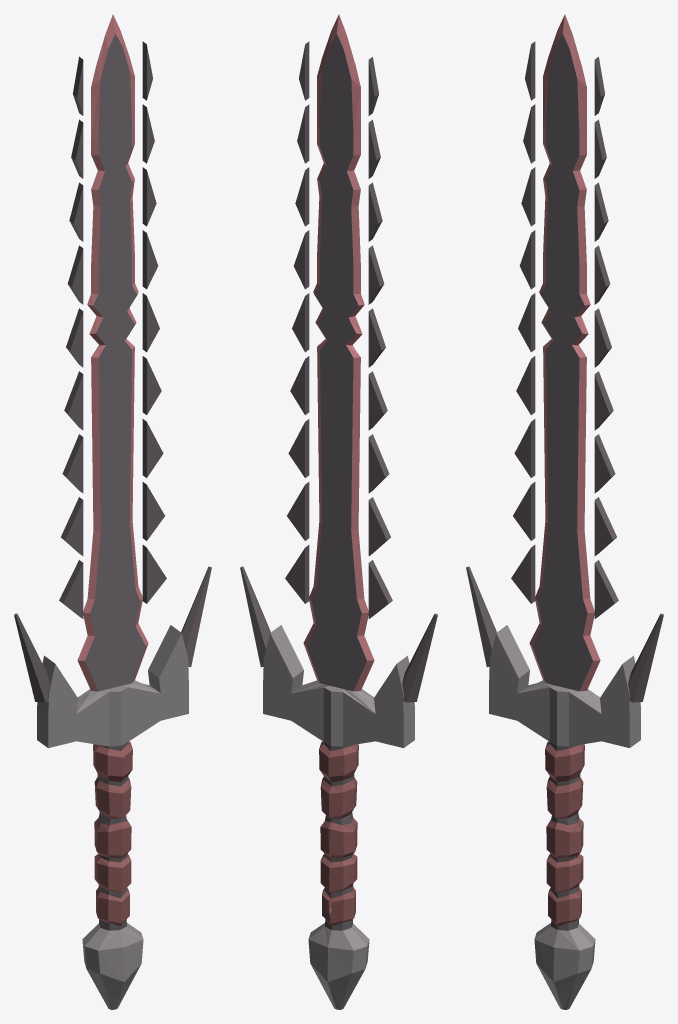
Rendered from espada_colmillo.glb.
3 views of the same model, side by side, from view 1: azimuth 30°, elevation 25°; view 2: azimuth 150°, elevation 25°; view 3: azimuth 330°, elevation 25° (orthographic).
Visible parts, largest first — view 1: espada_colmillo; view 2: espada_colmillo; view 3: espada_colmillo.
Boxes of the visible parts, x1=… form: espada_colmillo: x1=14, y1=14, x2=211, y2=1009; espada_colmillo: x1=240, y1=14, x2=437, y2=1009; espada_colmillo: x1=466, y1=14, x2=663, y2=1009.
Size of the model in its own units: 1.37 by 6.59 by 0.2713.
